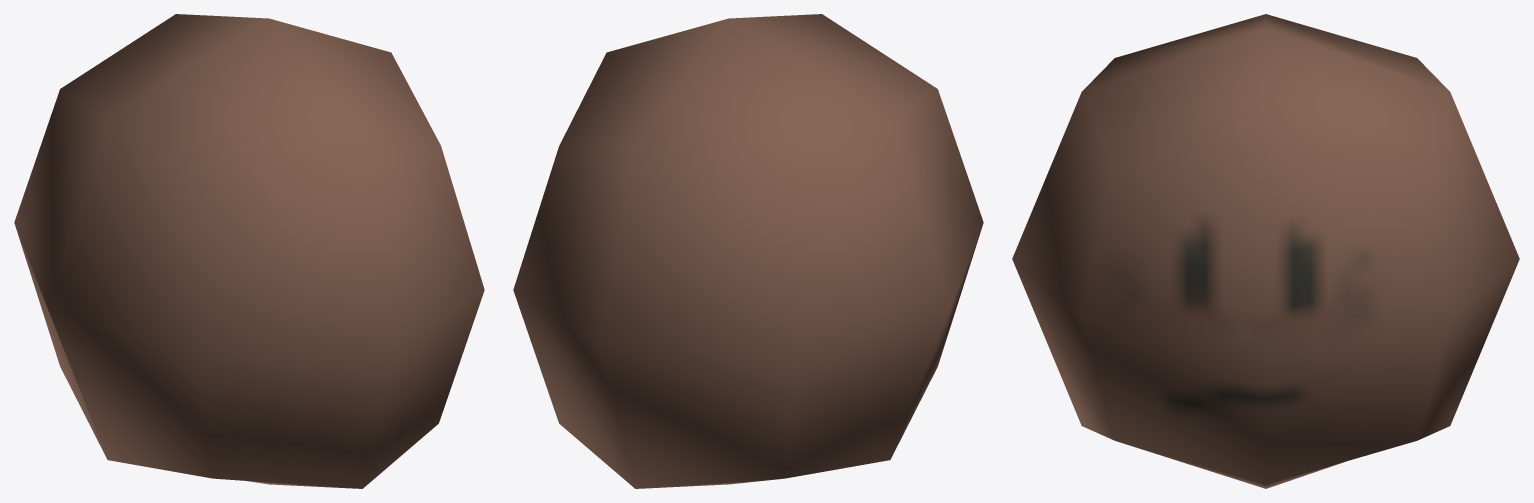
The model's file is Head.fbx.
3 renders of one model, left to right at view 1: azimuth 30°, elevation 25°; view 2: azimuth 150°, elevation 25°; view 3: azimuth 270°, elevation 25°, orthographic.
Parts seen in each view (by area): view 1: Head; view 2: Head; view 3: Head.
Boxes of the visible parts, <box> form: Head: <box>14,14,484,488</box>; Head: <box>513,14,983,488</box>; Head: <box>1012,14,1519,488</box>.
Bounding box in the file's own units: 201 × 227 × 227.
